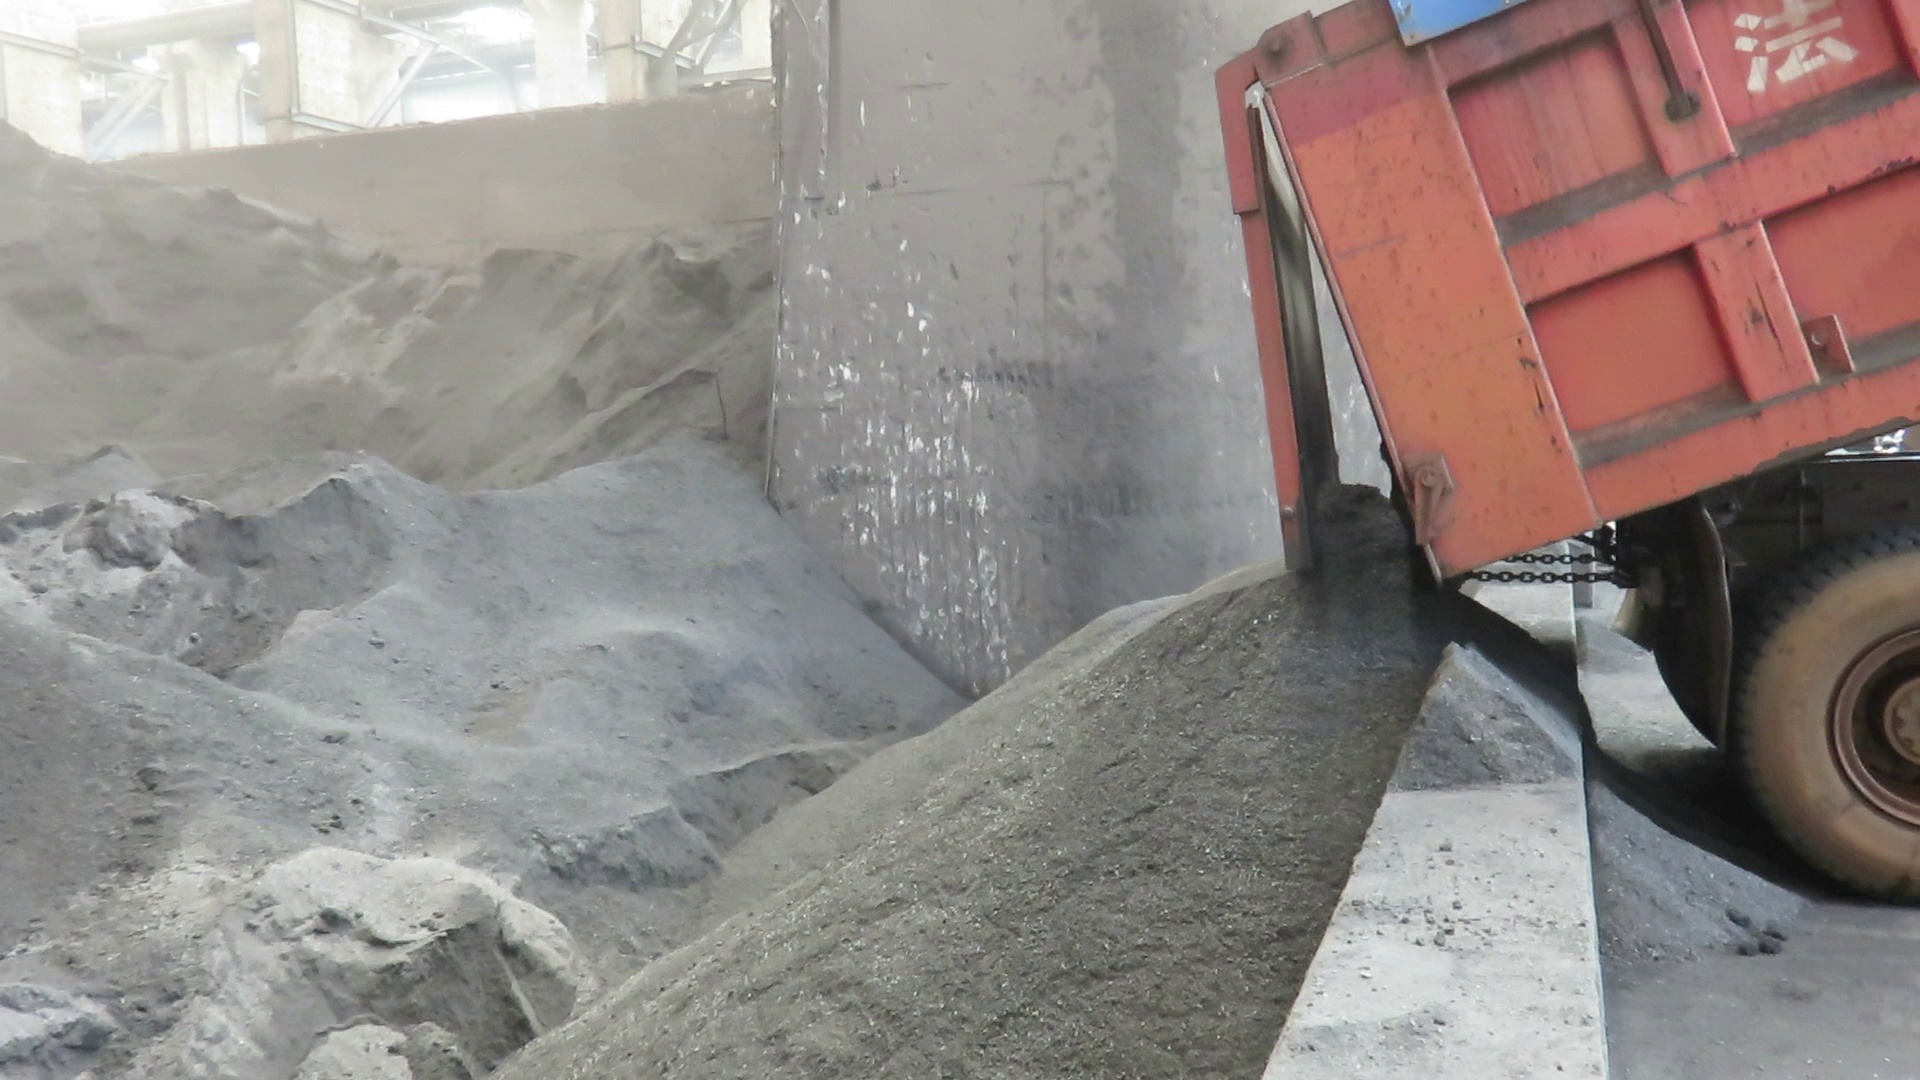dust: (1081, 127, 1247, 578)
truck: (1197, 0, 1920, 909)
